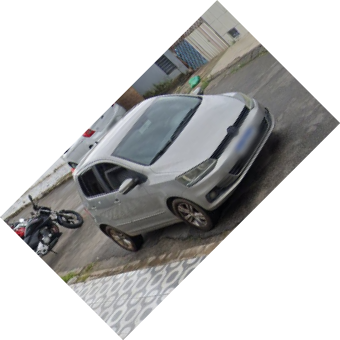car: (72, 92, 272, 255)
